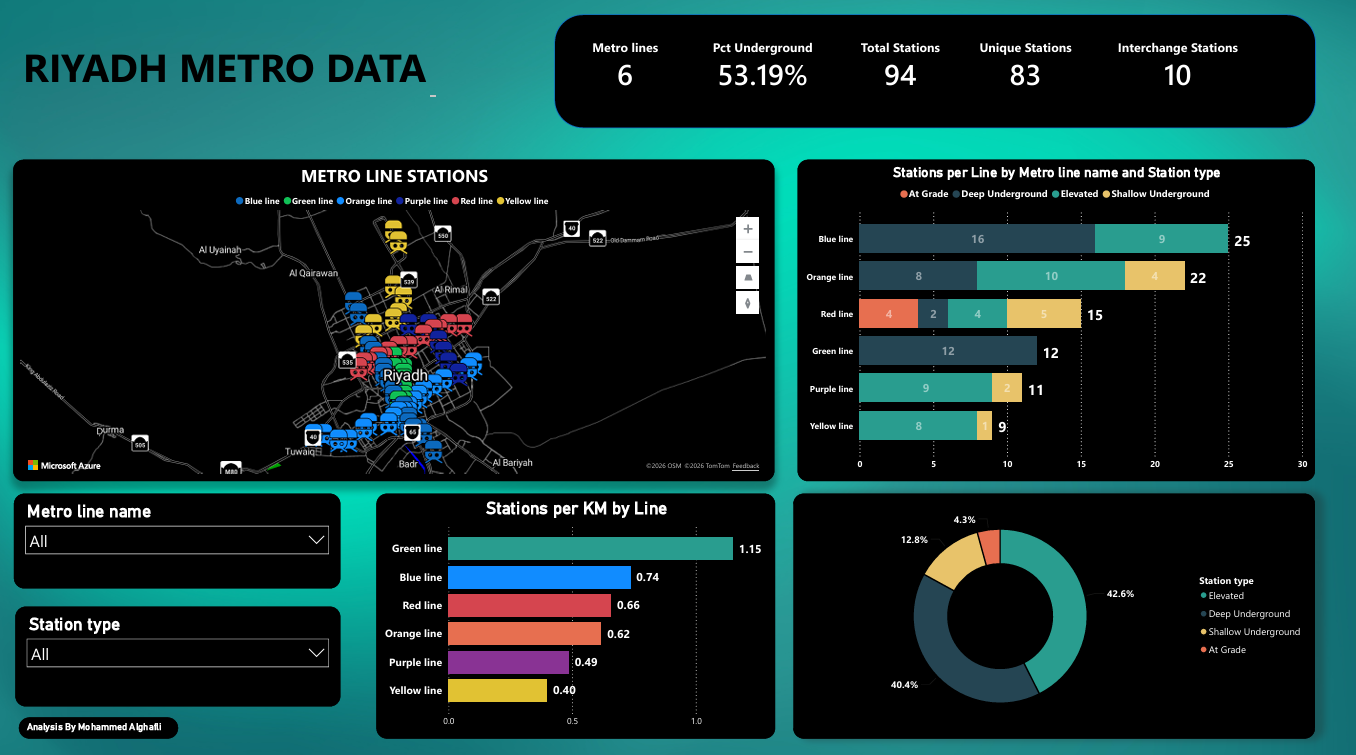

The page's visual inventory and layout, read from the dashboard file:
{"tool":"powerbi","page":{"name":"Page 1","canvas":[1919,1080],"ordinal":0},"visuals":[{"type":"image","box":[0,0,1920,1080],"z":1000},{"type":"textbox","title":"RIYADH METRO DATA","box":[41.2,70.6,588.2,85.3],"z":2000},{"type":"shape","box":[789.2,35.3,1064.7,158.8],"z":2500},{"type":"cardVisual","fields":{"Data":["Sheet1.Metro lines"]},"box":[803.9,47.1,167.6,126.5],"z":3000},{"type":"cardVisual","fields":{"Data":["Sheet1.Pct Underground"]},"box":[971.6,47.1,217.6,126.5],"z":4000},{"type":"cardVisual","fields":{"Data":["Sheet1.Total Stations"]},"box":[1189.2,47.1,167.6,126.5],"z":5000},{"type":"cardVisual","fields":{"Data":["Sheet1.Interchange Stations"]},"box":[1539.2,47.1,244.1,126.5],"z":6000},{"type":"cardVisual","fields":{"Data":["Sheet1.Unique Stations"]},"box":[1356.9,47.1,182.4,126.5],"z":7000},{"type":"azureMap","title":"METRO LINE STATIONS","fields":{"Category":["Sheet1.geo_point_2d"],"Y":["Avg(Sheet1.Latitude)"],"X":["Avg(Sheet1.Longitude)"],"Series":["Sheet1.Metro line name"]},"box":[32.4,238.2,1064.7,450],"z":8000},{"type":"barChart","fields":{"Category":["Sheet1.Metro line name"],"Y":["Sheet1.Stations per Line"],"Series":["Sheet1.Station type"]},"box":[1129.4,238.2,723.5,450],"z":9000},{"type":"clusteredBarChart","title":"Stations per KM by Line","fields":{"Category":["Sheet1.Metro line name"],"Y":["Sheet1.Station Density"]},"box":[540,705,557.5,342.5],"z":10000},{"type":"donutChart","fields":{"Y":["CountNonNull(Sheet1.Station type)"],"Category":["Sheet1.Station type"]},"box":[1122.5,705,730,342.5],"z":11000},{"type":"slicer","fields":{"Values":["Sheet1.Metro line name"]},"box":[32.5,705,457.5,132.5],"z":12000},{"type":"slicer","fields":{"Values":["Sheet1.Station type"]},"box":[35,862.5,455,140],"z":13000},{"type":"textbox","title":"Analysis By Mohammed Alghafli ","box":[40,1017.5,222.5,30],"z":14000}]}

Visuals, with their boxes in screenshot pixels (x1, y1, x2, y2), scaled from the page's 1919x1080 canvas onto the 1356x755 screenshot:
image: <region>0, 0, 1355, 754</region>
"RIYADH METRO DATA" textbox: <region>29, 49, 445, 109</region>
shape: <region>558, 25, 1310, 136</region>
cardVisual - Sheet1.Metro lines: <region>568, 33, 686, 121</region>
cardVisual - Sheet1.Pct Underground: <region>687, 33, 840, 121</region>
cardVisual - Sheet1.Total Stations: <region>840, 33, 959, 121</region>
cardVisual - Sheet1.Interchange Stations: <region>1088, 33, 1260, 121</region>
cardVisual - Sheet1.Unique Stations: <region>959, 33, 1088, 121</region>
"METRO LINE STATIONS" azureMap: <region>23, 167, 775, 481</region>
barChart - Sheet1.Metro line name x Sheet1.Stations per Line: <region>798, 167, 1309, 481</region>
"Stations per KM by Line" clusteredBarChart: <region>382, 493, 776, 732</region>
donutChart - CountNonNull(Sheet1.Station type) x Sheet1.Station type: <region>793, 493, 1309, 732</region>
slicer - Sheet1.Metro line name: <region>23, 493, 346, 585</region>
slicer - Sheet1.Station type: <region>25, 603, 346, 701</region>
"Analysis By Mohammed Alghafli " textbox: <region>28, 711, 185, 732</region>
